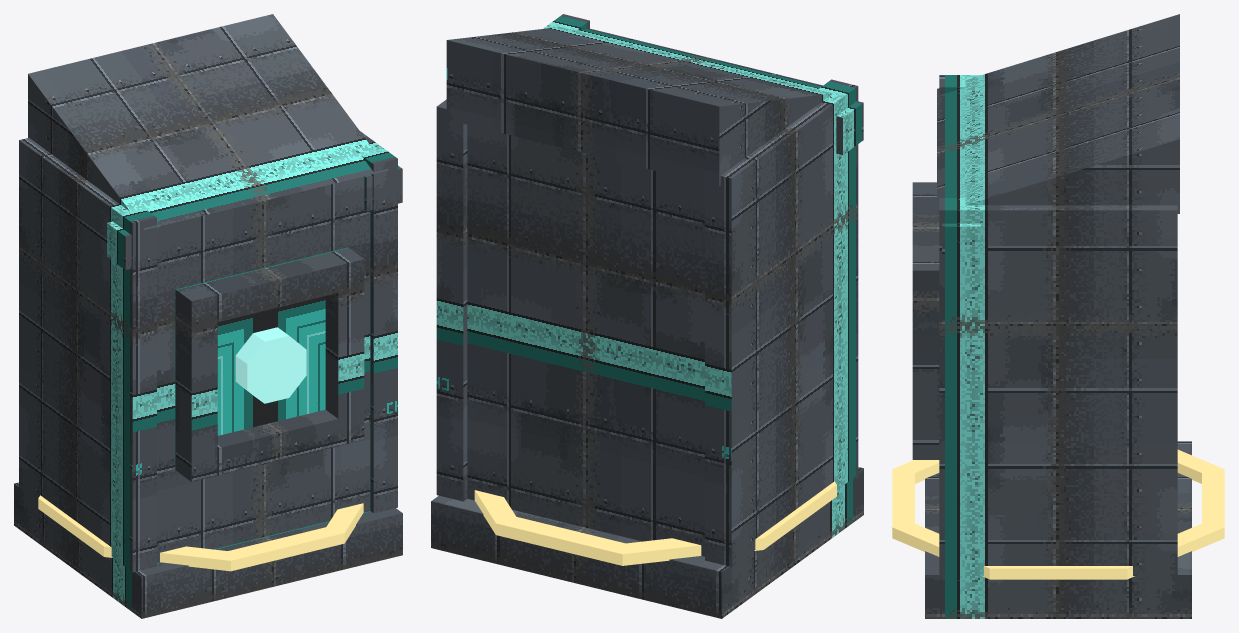
The model's file is check_b_vault.glb.
3 views of the same model, side by side, from view 1: azimuth 30°, elevation 25°; view 2: azimuth 150°, elevation 25°; view 3: azimuth 270°, elevation 25° (orthographic). The views are drawn at different scales.
Visible parts, largest first — view 1: check_b_vault; view 2: check_b_vault; view 3: check_b_vault.
Part boxes in pixels (x1,y1,x2,y2): check_b_vault: (14,14,402,618); check_b_vault: (431,14,863,618); check_b_vault: (892,14,1224,618).
Size of the model in its own units: 1.38 by 2.16 by 1.37.
4 materials, 2 textured.
